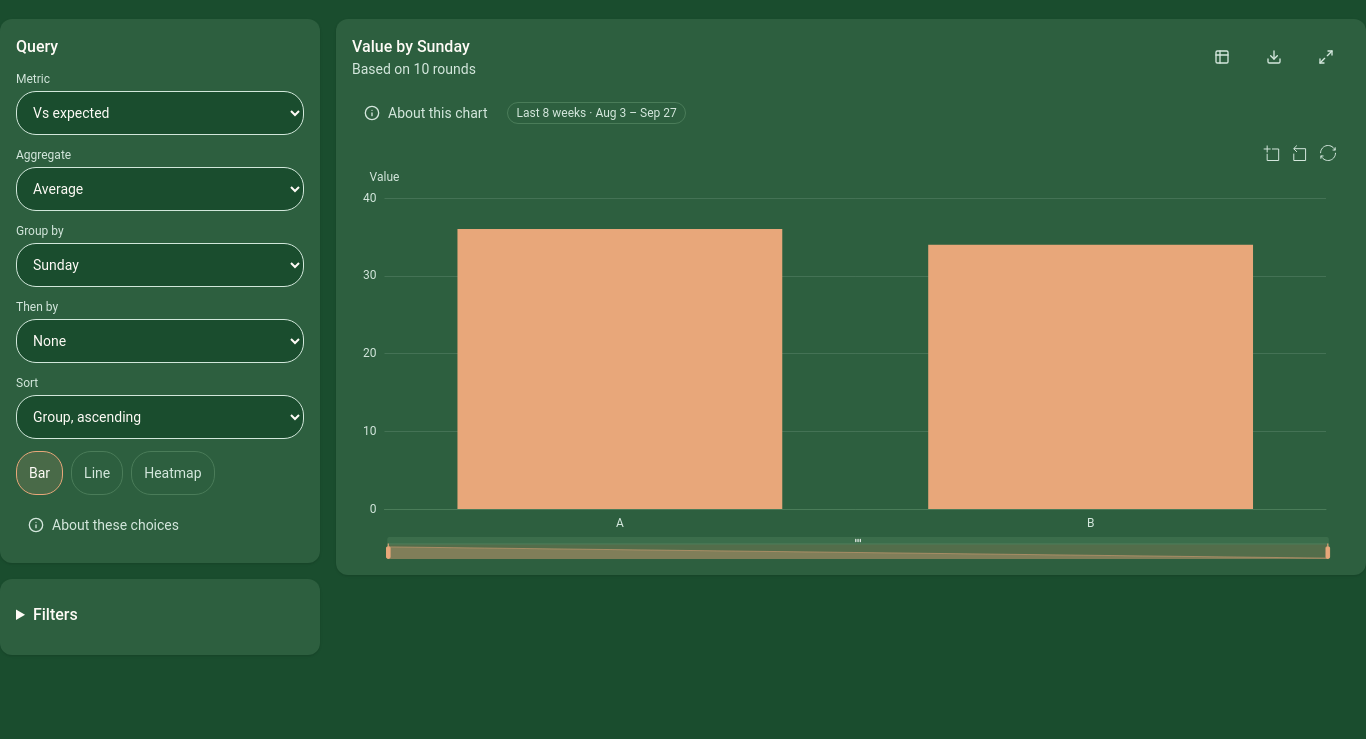
Test: ExplorerPage › explains the result and the query choices in plain words
The width and height of the screenshot is (1366, 739).
Click the button "About this chart". click: click(426, 113)
box: [352,91,500,135]
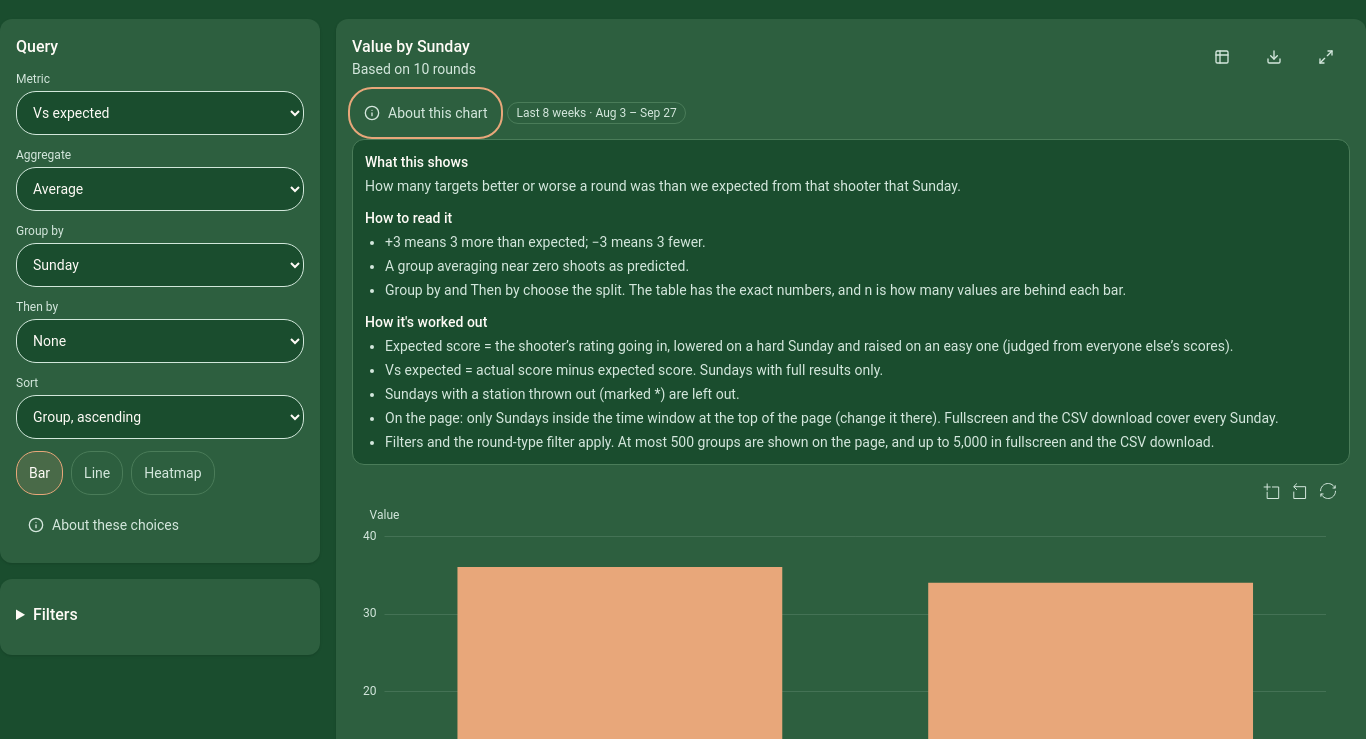
Result: the button "About this chart" is expanded
Result: the heading "What this shows" is shown at [365,154,468,170]
Result: the heading "How it's worked out" is shown at [365,314,487,330]
Click the button "About this chart". click: click(426, 113)
box: [352,91,500,135]
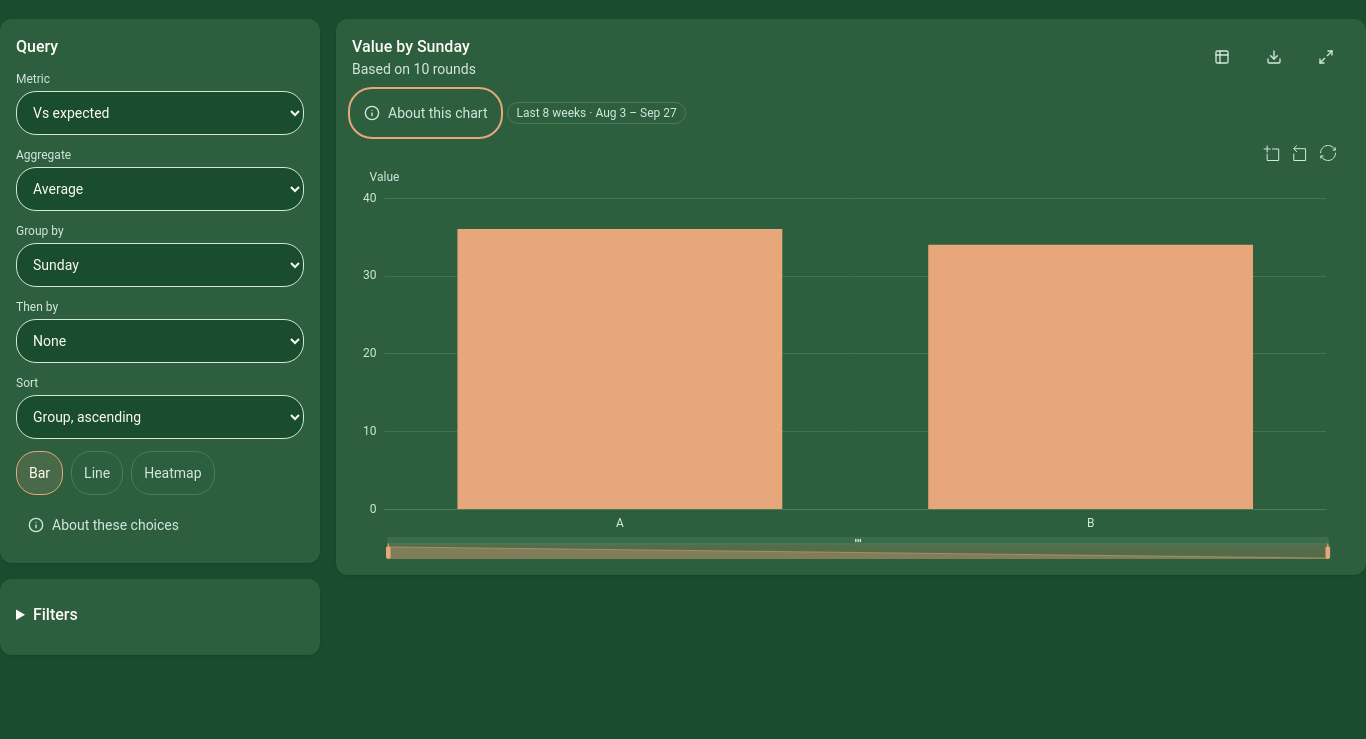
Result: the heading "What this shows" is gone
Click the button "About this chart". click: click(426, 113)
box: [352,91,500,135]
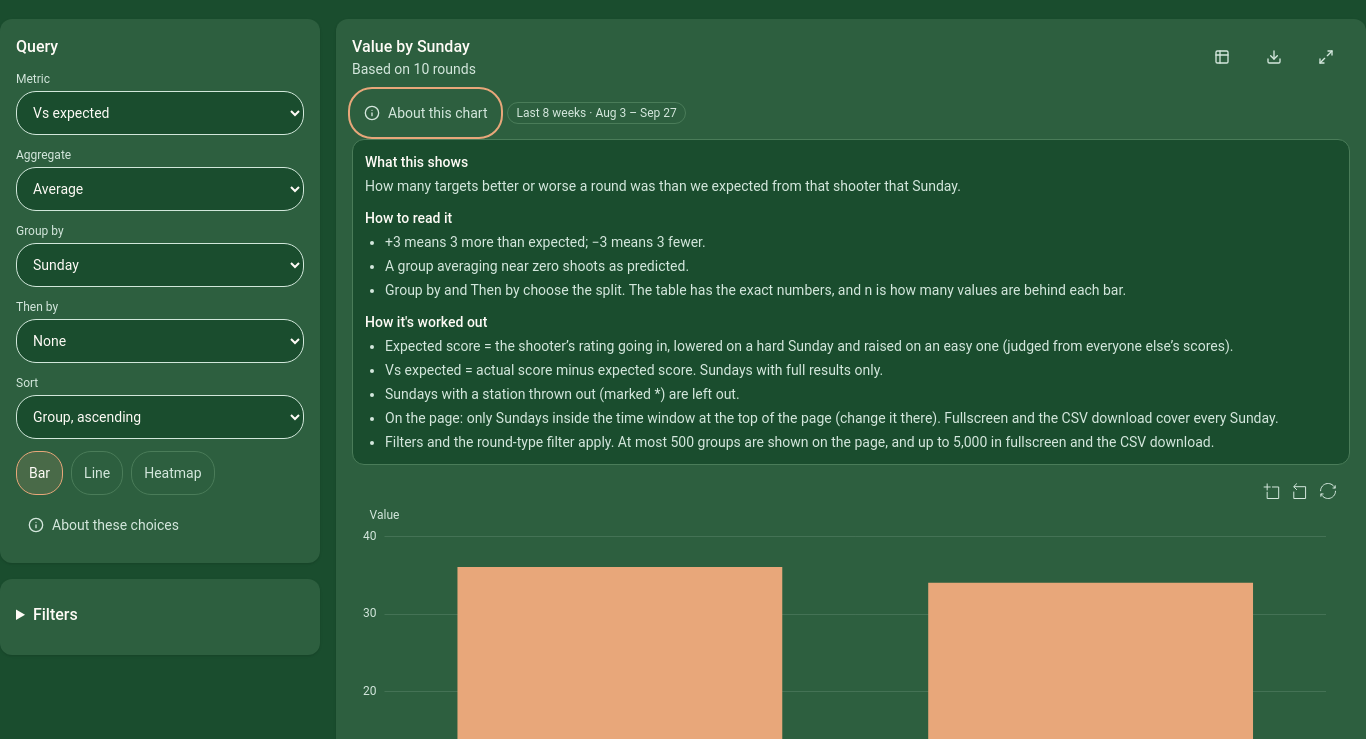
Expected: the button "Last 8 weeks · Aug 3 – Sep 27" is shown, [508,102,686,124]
Result: the list item "Vs expected = actual score minus expected score" is shown at [385,362,883,378]
Click the button "About these choices". click: click(104, 525)
box: [16,503,191,547]
(page scrolled)
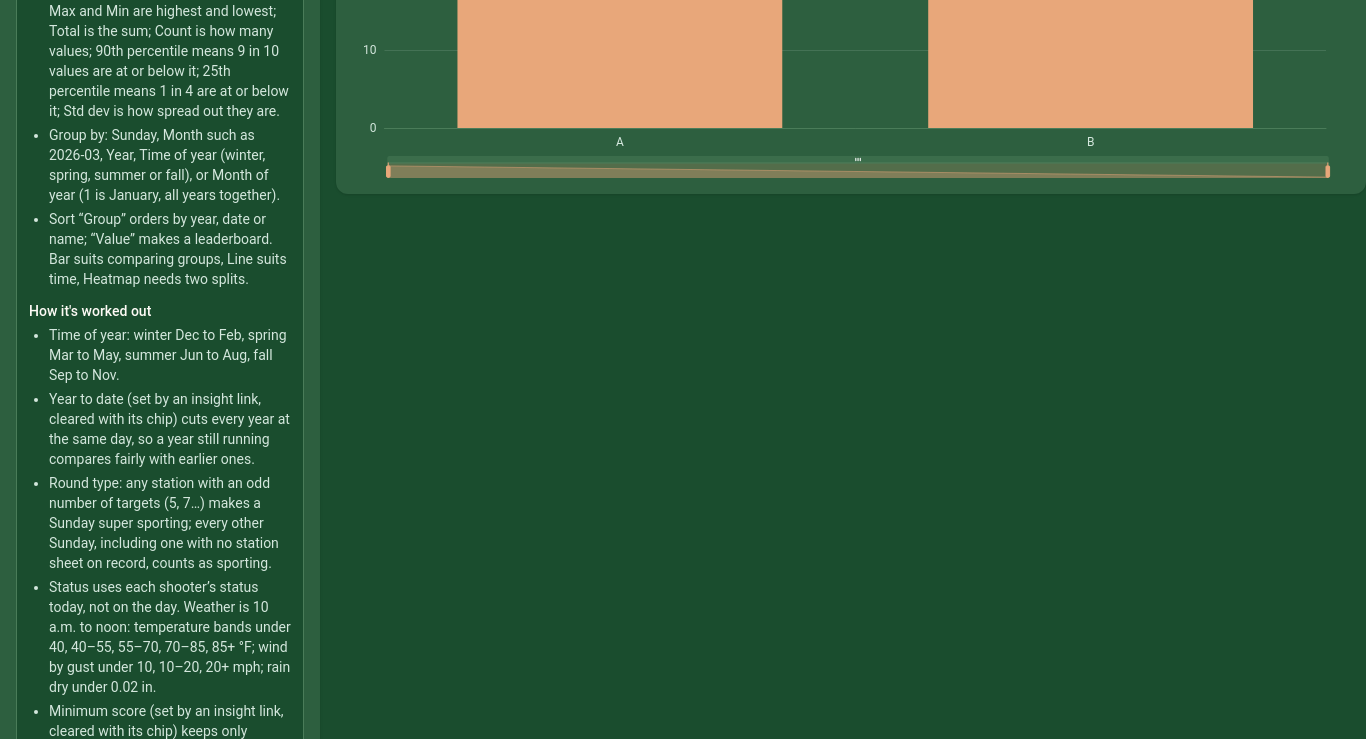
Result: the list item "winter Dec to Feb" is shown at [49,327,287,383]
